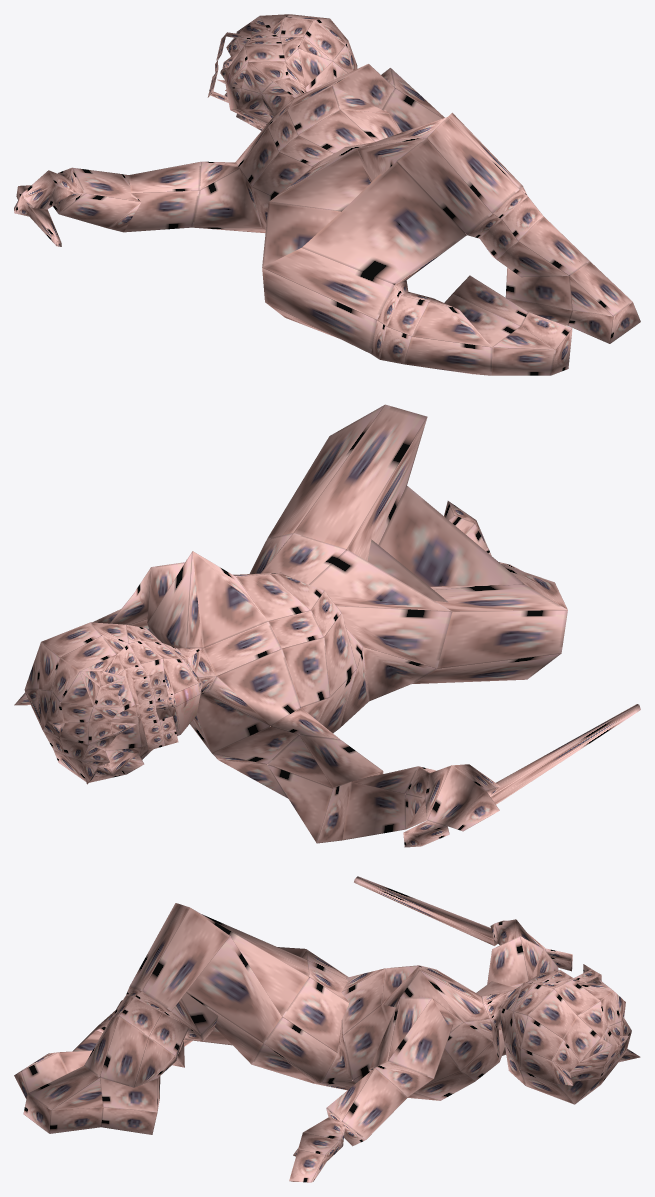
3 views of the same model, one above another, from view 1: azimuth 30°, elevation 25°; view 2: azimuth 150°, elevation 25°; view 3: azimuth 270°, elevation 25° (orthographic). The views are drawn at different scales.
Parts seen in each view (by area): view 1: T1L5M002_4; view 2: T1L5M002_4; view 3: T1L5M002_4.
Boxes of the visible parts, x1,y1,x2,y2 form: T1L5M002_4: (14,14,640,375); T1L5M002_4: (14,404,640,847); T1L5M002_4: (14,876,640,1182).
Bounding box in the file's own units: 1.03 × 0.463 × 1.26.
